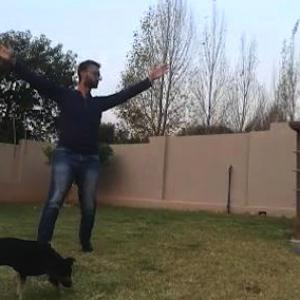takeoff: (0, 37, 178, 256)
